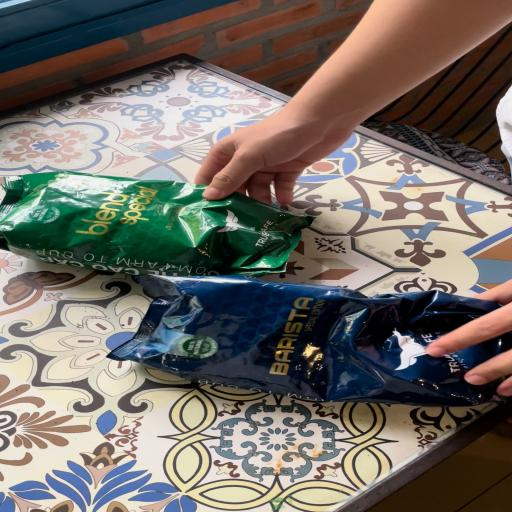cafe_hat: (107, 276, 512, 407)
cafe_xay: (0, 171, 312, 276)
